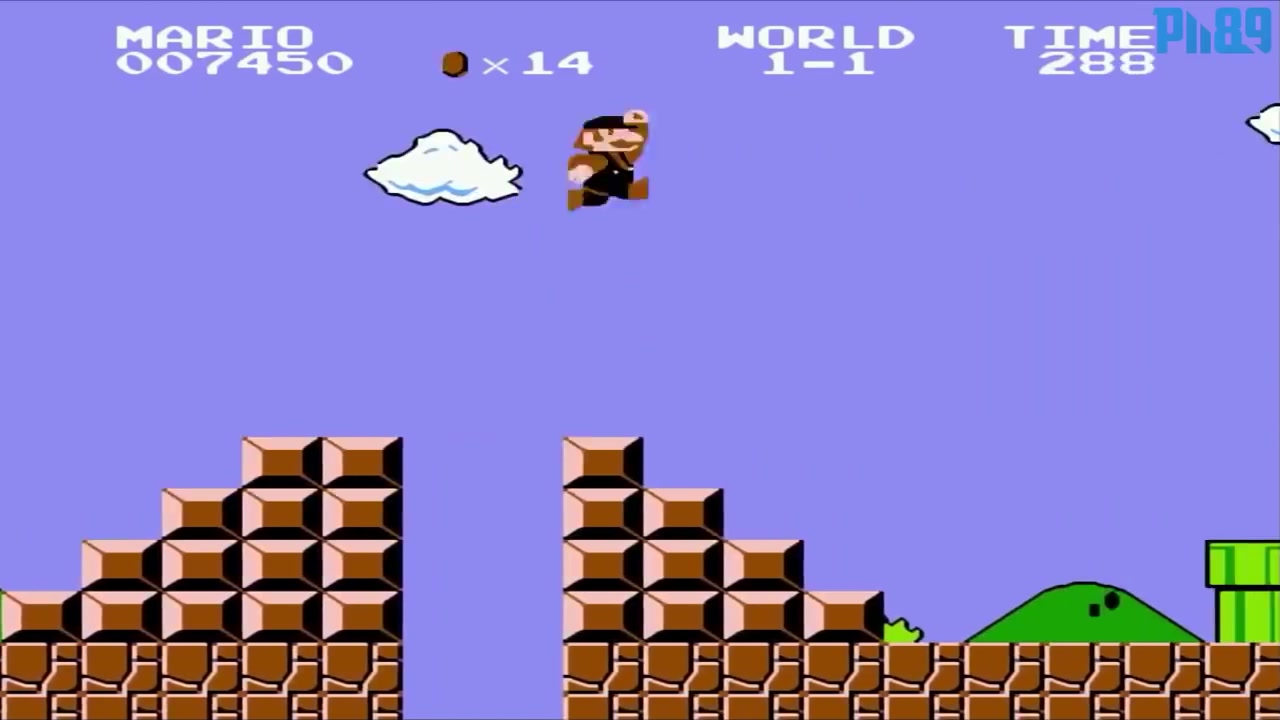mario: (550, 97, 676, 224)
